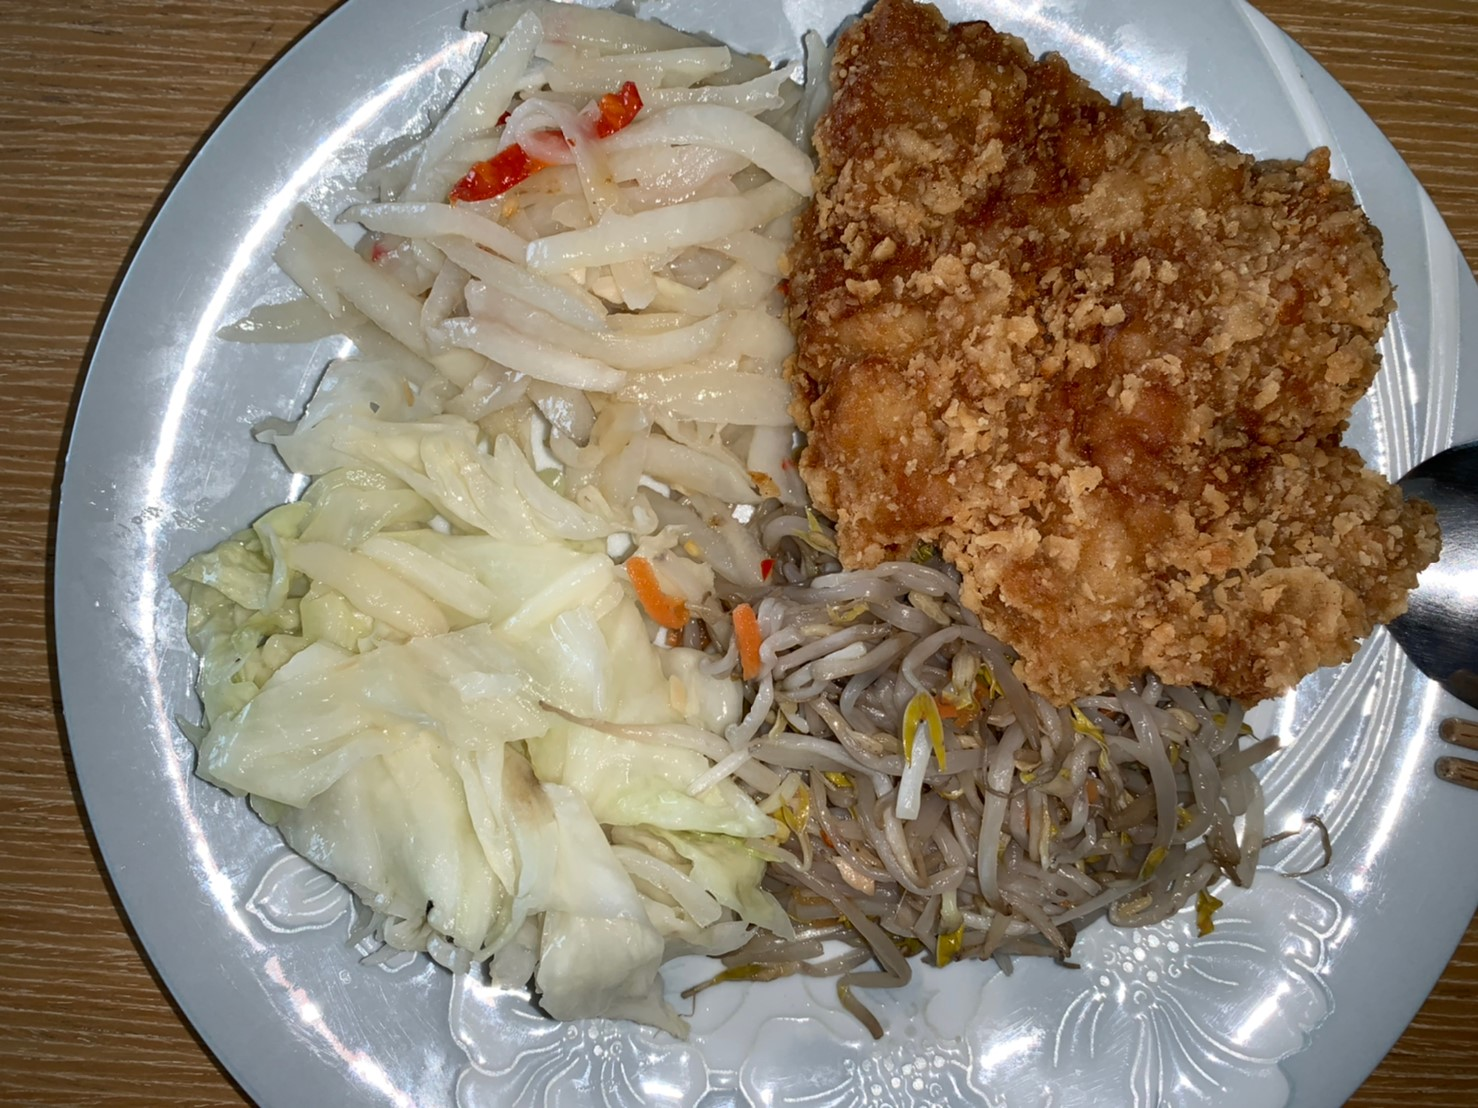chinese_cabbage: (192, 481, 730, 987)
fried_chicken: (782, 2, 1397, 683)
mung_bean_sprouts: (770, 596, 1256, 976)
